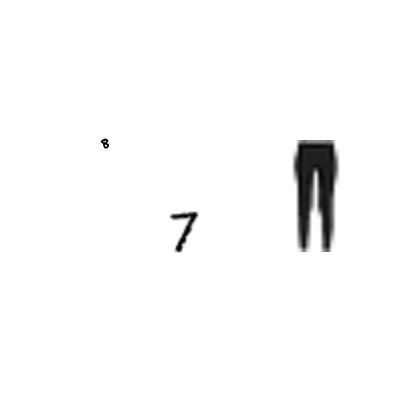3: (320, 182, 334, 196)
7: (156, 198, 212, 254)
8: (98, 136, 112, 150)
Trouser: (258, 140, 370, 252)
